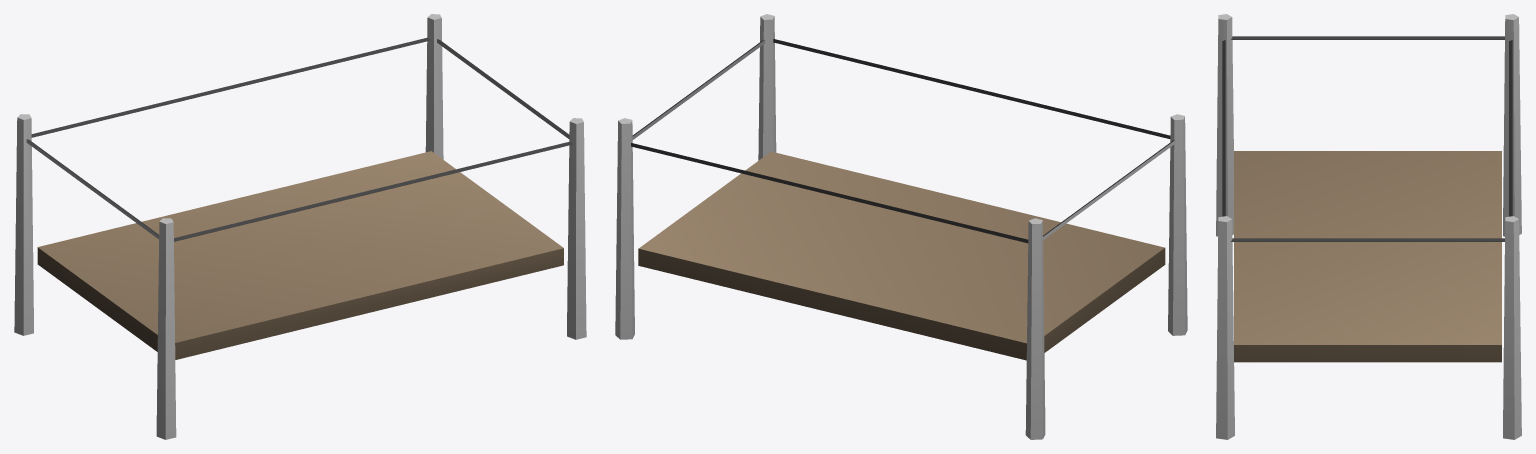
The model's file is arcon_frame.glb.
3 views of the same model, side by side, from view 1: azimuth 30°, elevation 25°; view 2: azimuth 150°, elevation 25°; view 3: azimuth 270°, elevation 25° (orthographic).
Visible parts, largest first — view 1: arcon_frame; view 2: arcon_frame; view 3: arcon_frame.
Part boxes in pixels (left/top/right/bottom): arcon_frame: left=14, top=14, right=586, bottom=439; arcon_frame: left=615, top=14, right=1187, bottom=439; arcon_frame: left=1216, top=14, right=1521, bottom=439.
Bounding box in the file's own units: 1.04 × 0.5 × 0.6398.
